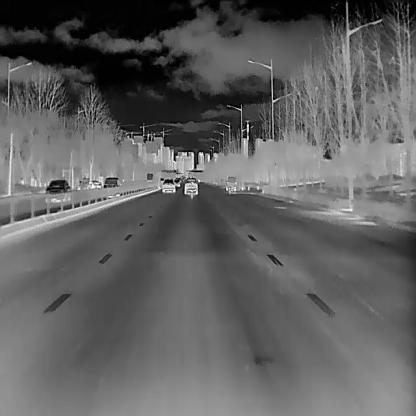car: (44, 179, 70, 201), (184, 178, 198, 195), (102, 177, 120, 189), (224, 175, 237, 191), (162, 178, 175, 192), (88, 180, 101, 189), (173, 177, 181, 187), (146, 172, 154, 181)
